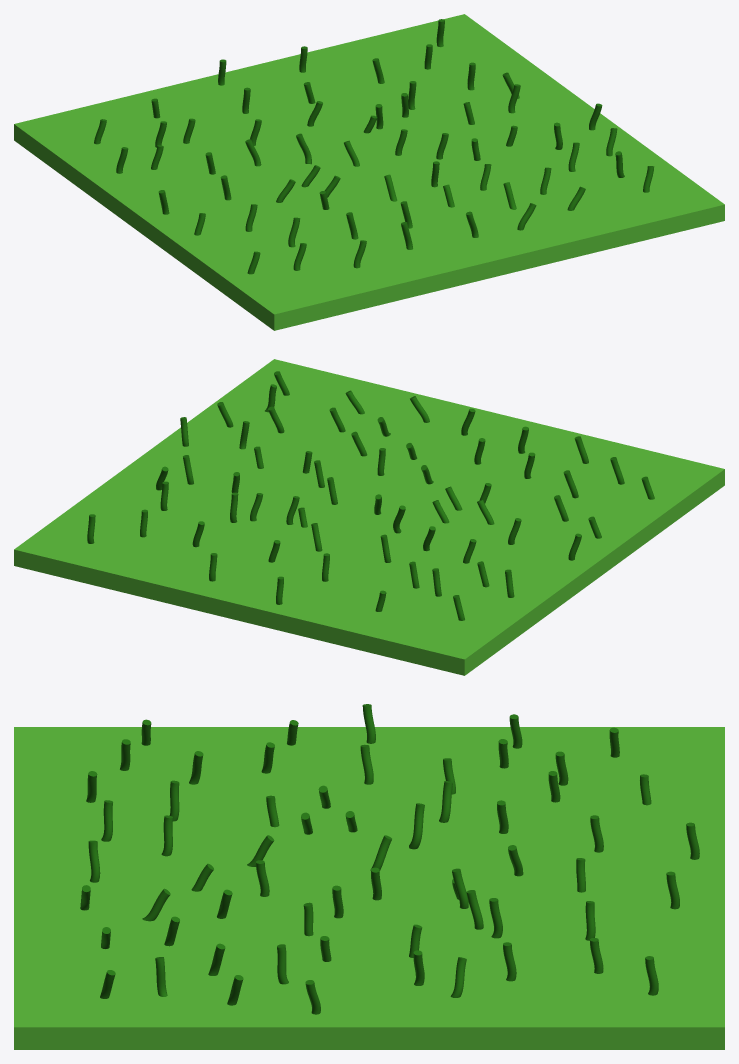
Rendered from NewGrass.fbx.
3 renders of one model, top to bottom at view 1: azimuth 30°, elevation 25°; view 2: azimuth 150°, elevation 25°; view 3: azimuth 270°, elevation 25°, orthographic. The views are drawn at different scales.
Parts seen in each view (by area): view 1: Base.003; view 2: Base.003; view 3: Base.003.
Part boxes in pixels (x1,y1,x2,y2): Base.003: (14,14,724,330); Base.003: (14,359,724,675); Base.003: (14,704,724,1049).
Bounding box in the file's own units: 200 × 19.2 × 200.
